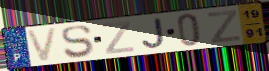0: (176, 12, 204, 48)
J: (140, 16, 166, 50)
S: (60, 24, 94, 60)
V: (24, 26, 59, 64)
Z: (206, 9, 242, 45), (100, 19, 136, 55)
